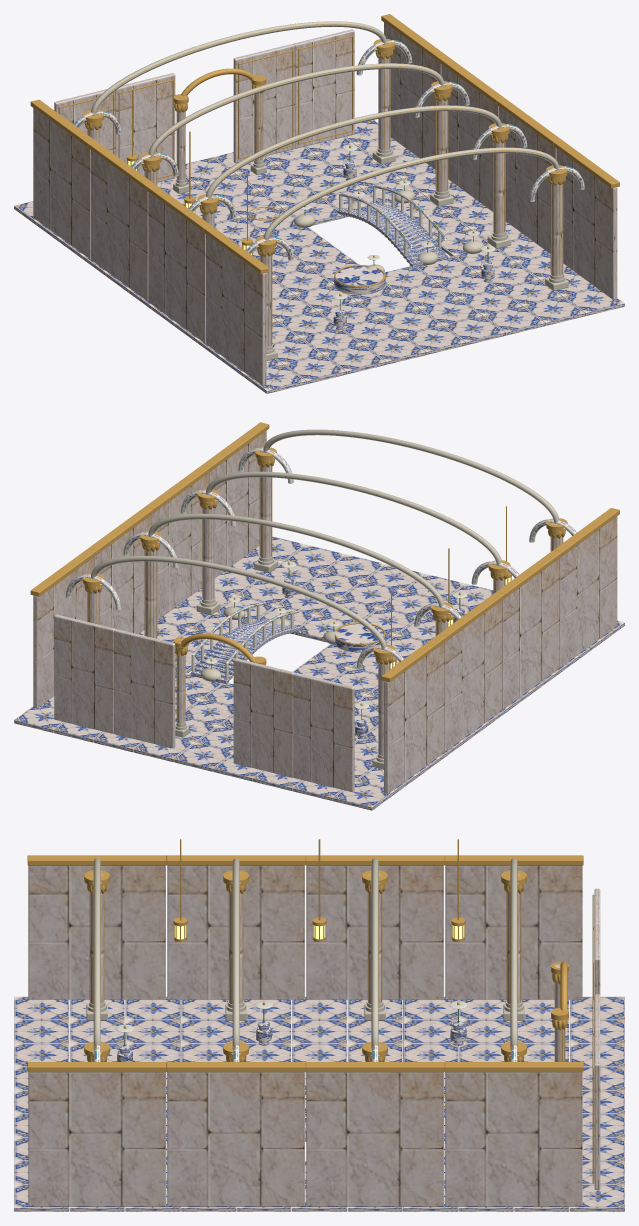
File: room-1.glb
3 views of the same model, one above another, from view 1: azimuth 30°, elevation 25°; view 2: azimuth 150°, elevation 25°; view 3: azimuth 270°, elevation 25° (orthographic). The views are drawn at different scales.
Visible parts, largest first — view 1: Architecture Architectural stone, Architecture Floor tile, Architecture Antique gilt, Architecture Warm cut stone, Architecture Decorative ceramic, Architecture Porcelain ivory; view 2: Architecture Architectural stone, Architecture Floor tile, Architecture Antique gilt, Architecture Warm cut stone, Architecture Decorative ceramic, Architecture Porcelain ivory; view 3: Architecture Architectural stone, Architecture Floor tile, Architecture Antique gilt, Architecture Warm cut stone, Architecture Decorative ceramic.
Boxes of the visible parts, bbox=[...] form: Architecture Architectural stone: bbox=[33, 22, 617, 385]; Architecture Floor tile: bbox=[14, 120, 624, 393]; Architecture Antique gilt: bbox=[30, 14, 619, 345]; Architecture Warm cut stone: bbox=[91, 21, 568, 360]; Architecture Decorative ceramic: bbox=[73, 40, 584, 329]; Architecture Porcelain ivory: bbox=[85, 44, 568, 299]; Architecture Architectural stone: bbox=[33, 431, 617, 793]; Architecture Floor tile: bbox=[14, 536, 624, 810]; Architecture Antique gilt: bbox=[30, 422, 619, 754]; Architecture Warm cut stone: bbox=[91, 429, 559, 769]; Architecture Decorative ceramic: bbox=[65, 448, 576, 739]; Architecture Porcelain ivory: bbox=[82, 450, 565, 708]; Architecture Architectural stone: bbox=[28, 865, 600, 1206]; Architecture Floor tile: bbox=[14, 996, 624, 1211]; Architecture Antique gilt: bbox=[27, 839, 594, 1183]; Architecture Warm cut stone: bbox=[86, 858, 524, 1046]; Architecture Decorative ceramic: bbox=[93, 1021, 517, 1141].
Size of the model in its own units: 18.05 by 7.89 by 21.99.
8 materials, 3 textured.
